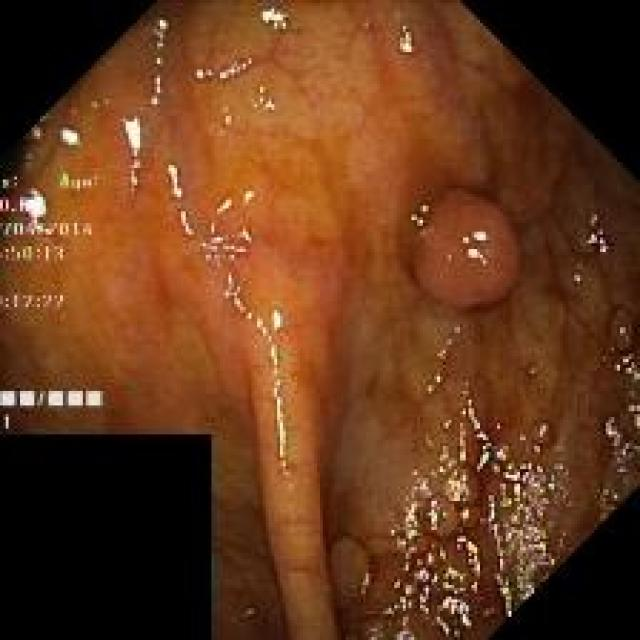Polyps: (414, 190, 519, 309), (329, 537, 372, 609), (420, 497, 460, 538), (442, 468, 479, 505), (459, 506, 480, 525)
